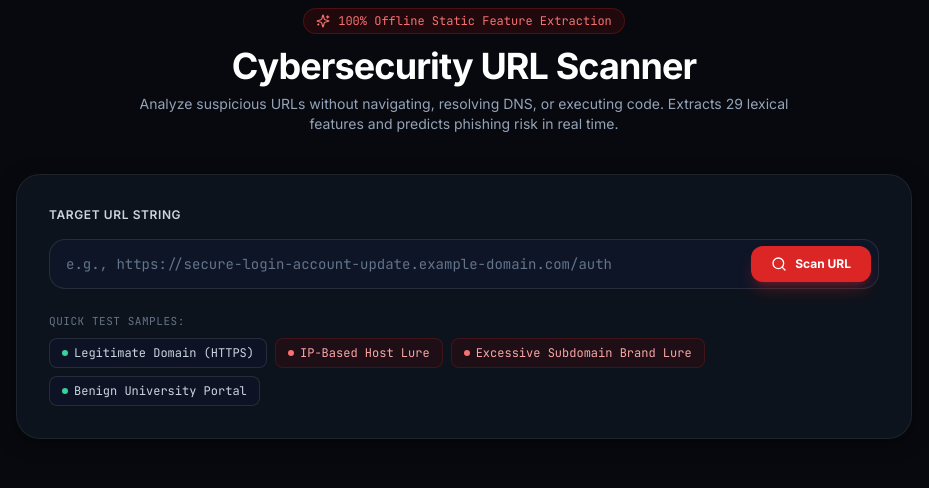
Test: UrlScanner Component › validates empty URL input and displays error message
The width and height of the screenshot is (929, 488).
Click the button "Scan URL".
click(811, 264)  # box [751,246,871,282]
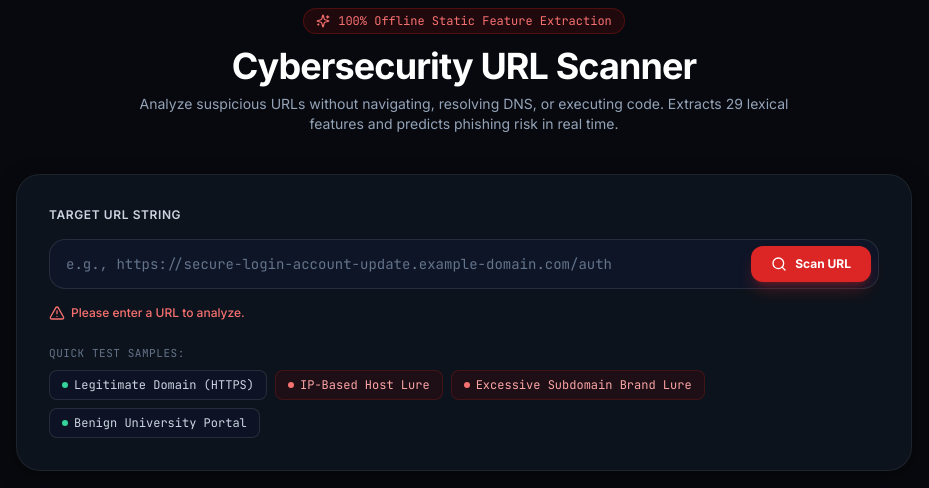
Expected: the text "Please enter a URL to analyze." is shown, [49,305,245,321]
